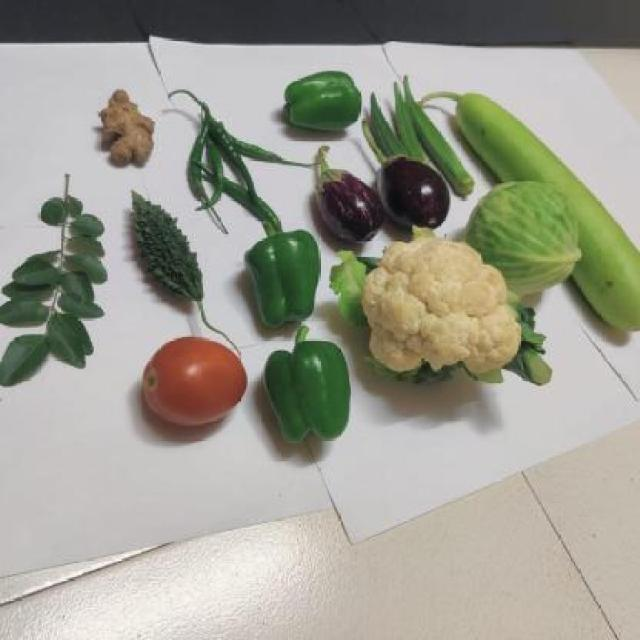Bitter melon: (124, 186, 236, 343)
Brinjal: (366, 140, 446, 226), (314, 146, 380, 243)
Cabbage: (478, 176, 578, 292)
Calabash: (450, 85, 556, 189)
Capsicum: (264, 324, 356, 458), (243, 222, 326, 326), (270, 68, 366, 136)
Cauliflower: (354, 234, 526, 380)
Ginger: (101, 81, 160, 176)
Green Chili: (183, 100, 274, 218)
Lady finger: (368, 82, 454, 162)
Tomato: (140, 332, 254, 436)
